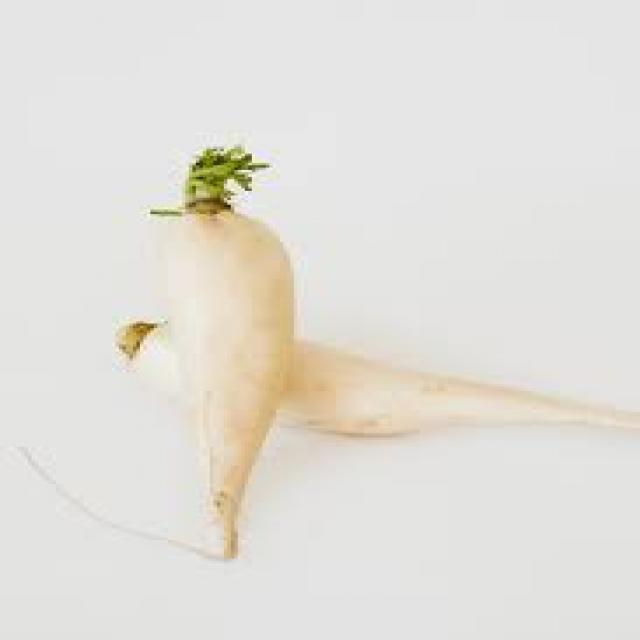raddish: (164, 212, 294, 567)
